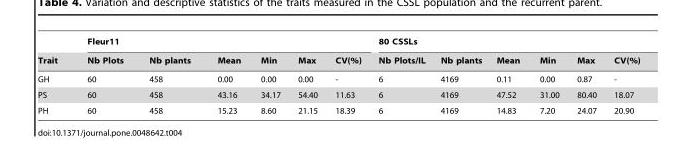table: (37, 36, 639, 114)
table column: (135, 36, 203, 114), (71, 36, 135, 114), (369, 36, 432, 114), (432, 36, 488, 114), (203, 36, 250, 114), (325, 36, 369, 114), (488, 36, 529, 114), (250, 36, 288, 114), (529, 36, 567, 114), (288, 36, 325, 114), (567, 36, 604, 114), (604, 36, 639, 114), (37, 36, 71, 114)
table column header: (37, 36, 639, 69)
table row: (37, 50, 639, 69), (37, 69, 639, 86), (37, 86, 639, 102), (37, 36, 639, 50), (37, 102, 639, 114)
table spanning cell: (71, 36, 369, 50), (369, 36, 639, 50), (37, 36, 71, 69)
